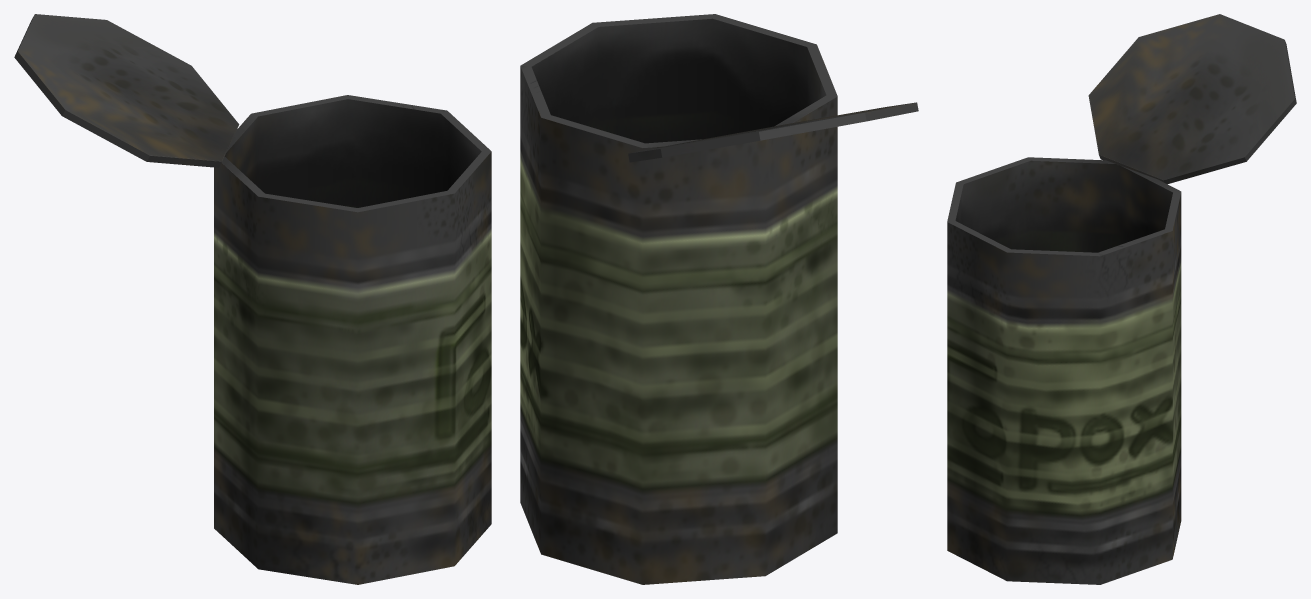
The model's file is can.glb.
3 views of the same model, side by side, from view 1: azimuth 30°, elevation 25°; view 2: azimuth 150°, elevation 25°; view 3: azimuth 270°, elevation 25° (orthographic). The views are drawn at different scales.
Parts seen in each view (by area): view 1: can; view 2: can; view 3: can.
Boxes of the visible parts, x1,y1,x2,y2 form: can: (14,14,491,584); can: (520,14,918,584); can: (947,14,1296,584).
Size of the model in its own units: 0.587 by 0.7246 by 0.553.
Materials: 1 (1 with a texture image).
